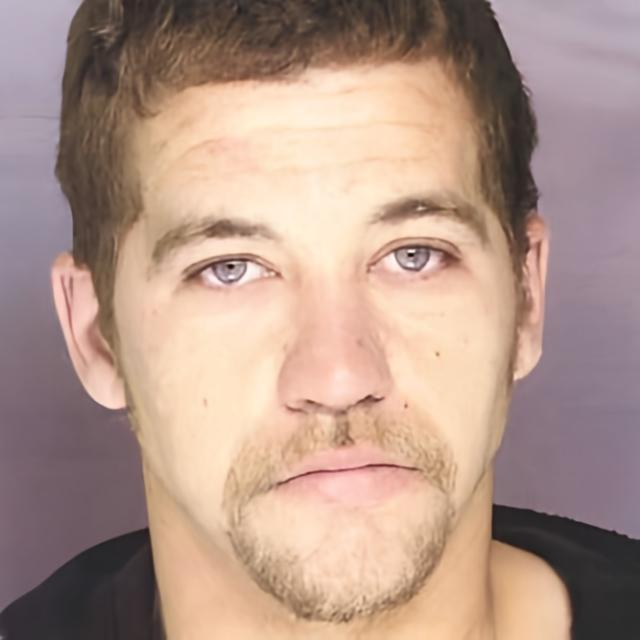neutral: (117, 52, 513, 626)
